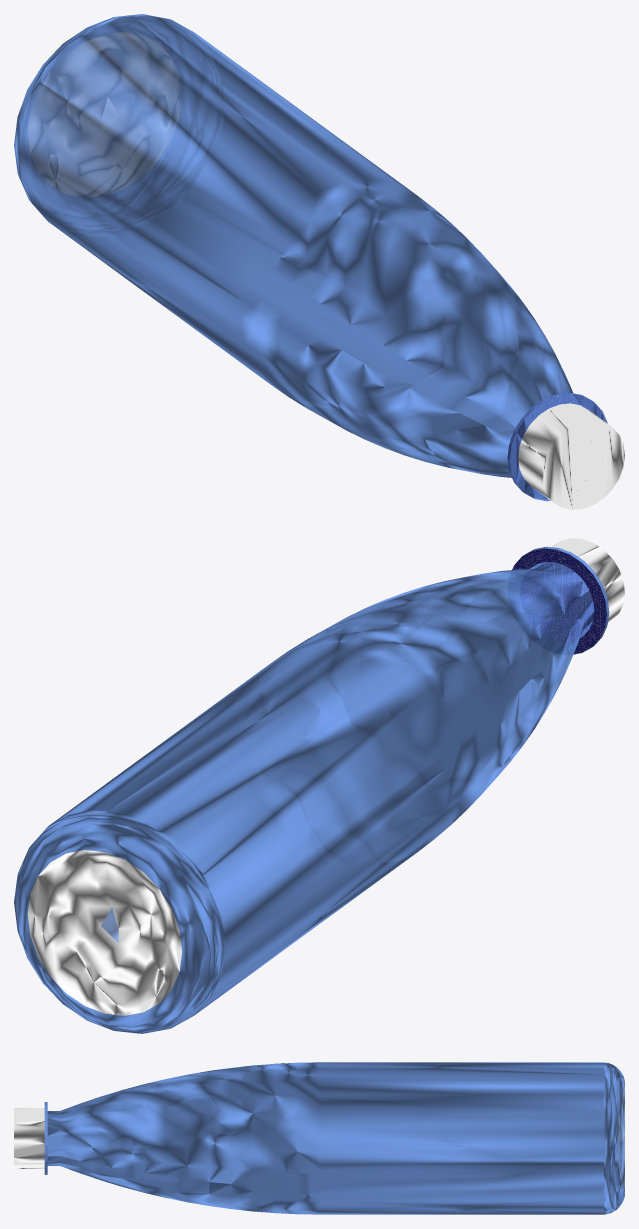
Rendered from model_align.obj.
The picture shows the model from 3 angles, top to bottom: view 1: azimuth 30°, elevation 25°; view 2: azimuth 150°, elevation 25°; view 3: azimuth 270°, elevation 25°; orthographic projection. The views are drawn at different scales.
Bounding box in the file's own units: 0.0692 × 0.0692 × 0.2767.
